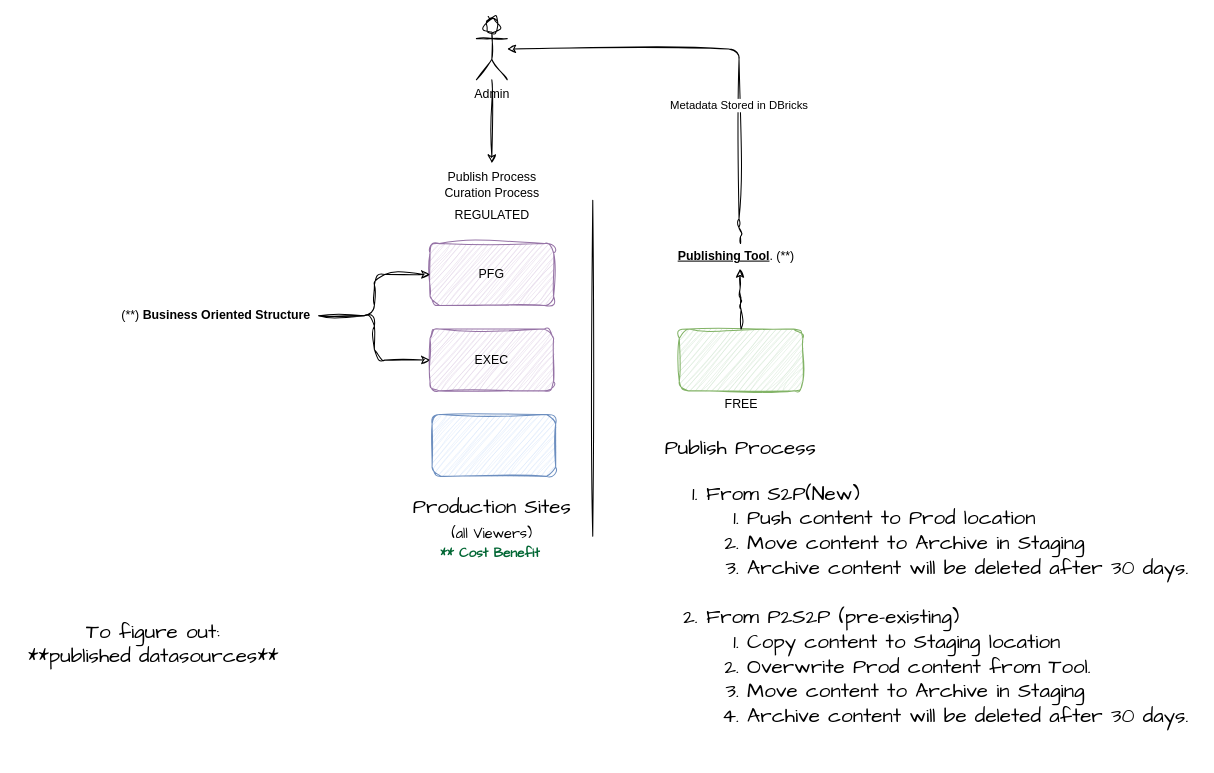
This 1214x773 diagram has some shape labels left out. The shapes that lost their labels are listed below. From the top down, each one's box as (x1, y1, x2, y2) in pixels, then its label:
(678, 328, 803, 391): STAGING
(431, 414, 556, 476): EXTERNAL
